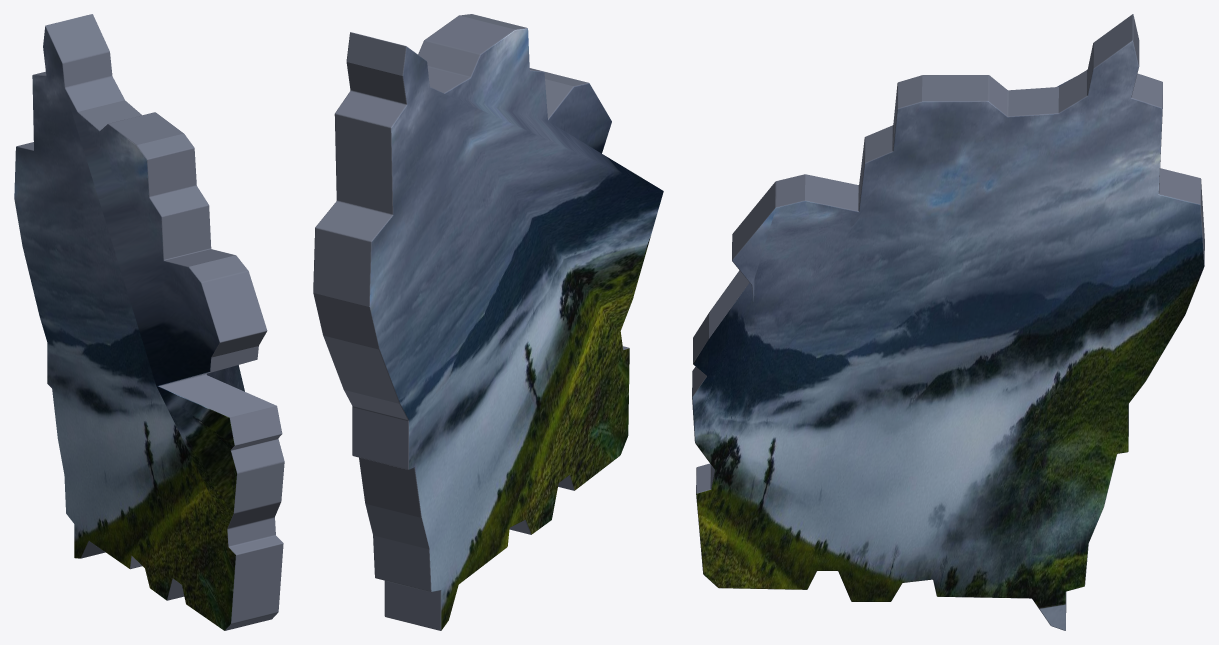
File: manipur.glb
The picture shows the model from 3 angles, left to right: view 1: azimuth 30°, elevation 25°; view 2: azimuth 150°, elevation 25°; view 3: azimuth 270°, elevation 25°; orthographic projection. The views are drawn at different scales.
Visible parts, largest first — view 1: Object_58; view 2: Object_58; view 3: Object_58.
Part boxes in pixels (box(x1,y1,x2,y2)): Object_58: box(14, 14, 284, 630); Object_58: box(313, 14, 663, 630); Object_58: box(692, 14, 1204, 630).
Size of the model in its own units: 0.0636 by 0.3059 by 0.2405.
Materials: 1 (1 with a texture image).
